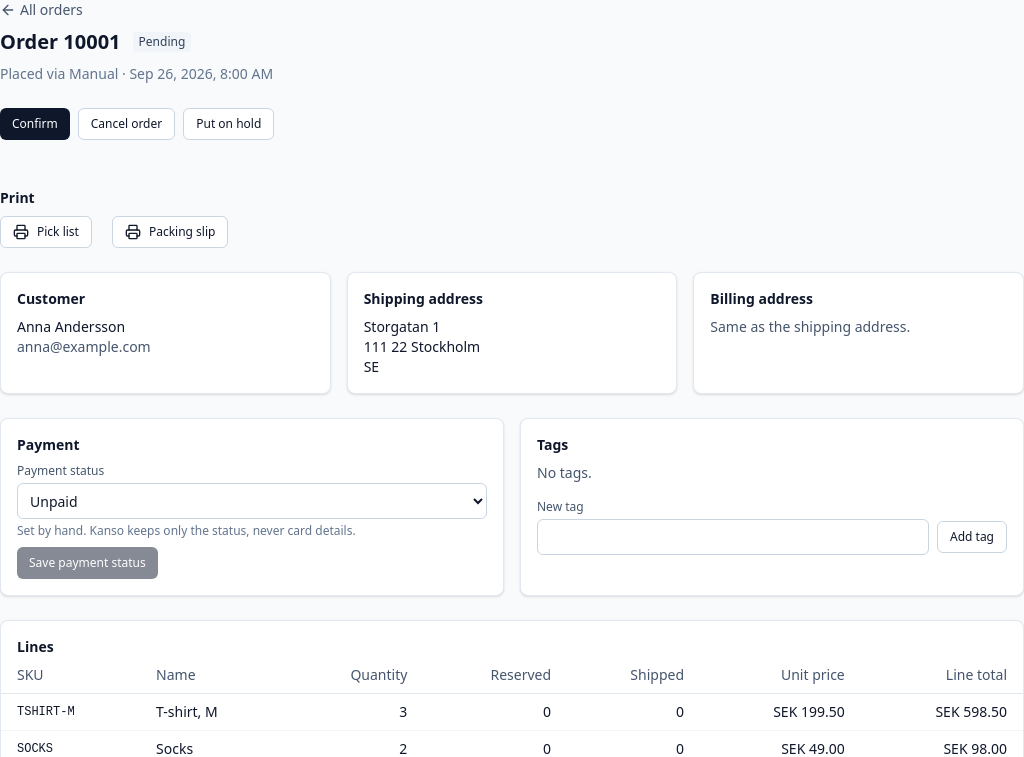
Test case: the order detail › reloads and explains when someone else changed the order
Click the button "Confirm" at {"x": 35, "y": 124}, box top-left (0, 108), bottom-right (70, 140)
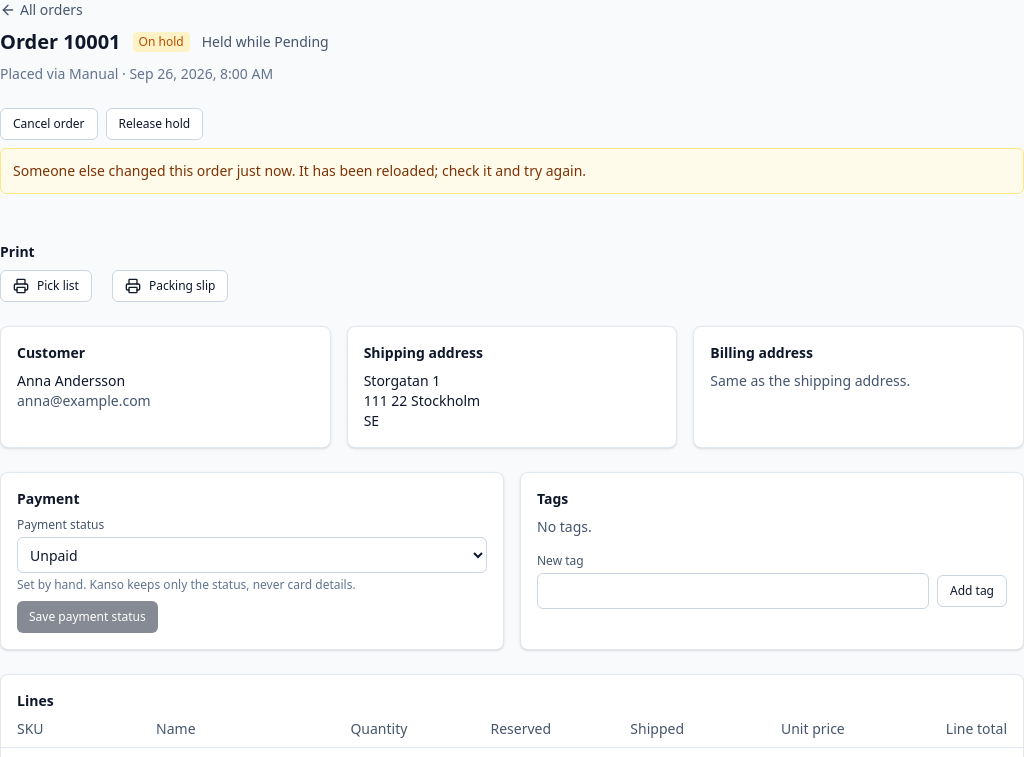
Now the message shows "Someone else changed this order", box top-left (13, 161), bottom-right (586, 180)
Now the button "Release hold" is shown, box top-left (106, 108), bottom-right (203, 140)
Now the text "Held while Pending" is shown, box top-left (202, 32), bottom-right (329, 52)
